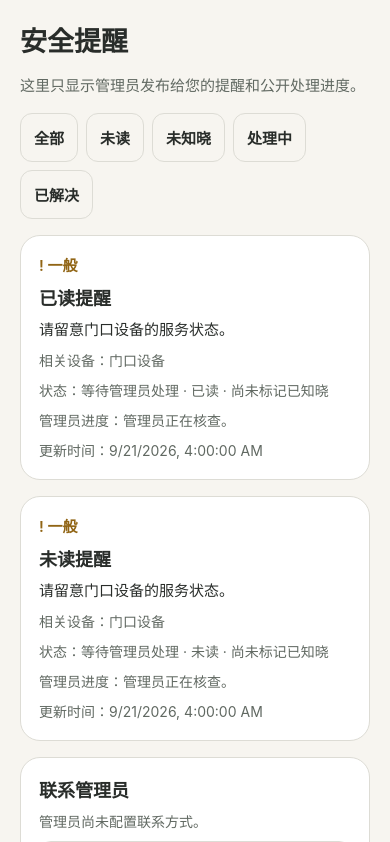
it: authorized user screens › filters to unread reminders without altering the underlying list
This screenshot has width=390, height=842.
Expected: the text "已读提醒" is shown, [39,288,111,309]
What coordinates should you click on to do the following:
click the button "未读"
I would click on:
 (115, 138)
Its box is [86,113,144,162].
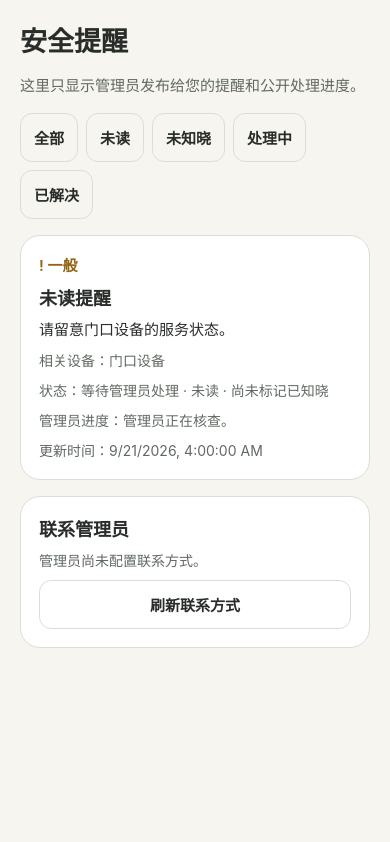
Expected: the text "未读提醒" is shown, [39,288,111,309]
Expected: the button "已读提醒" is gone
